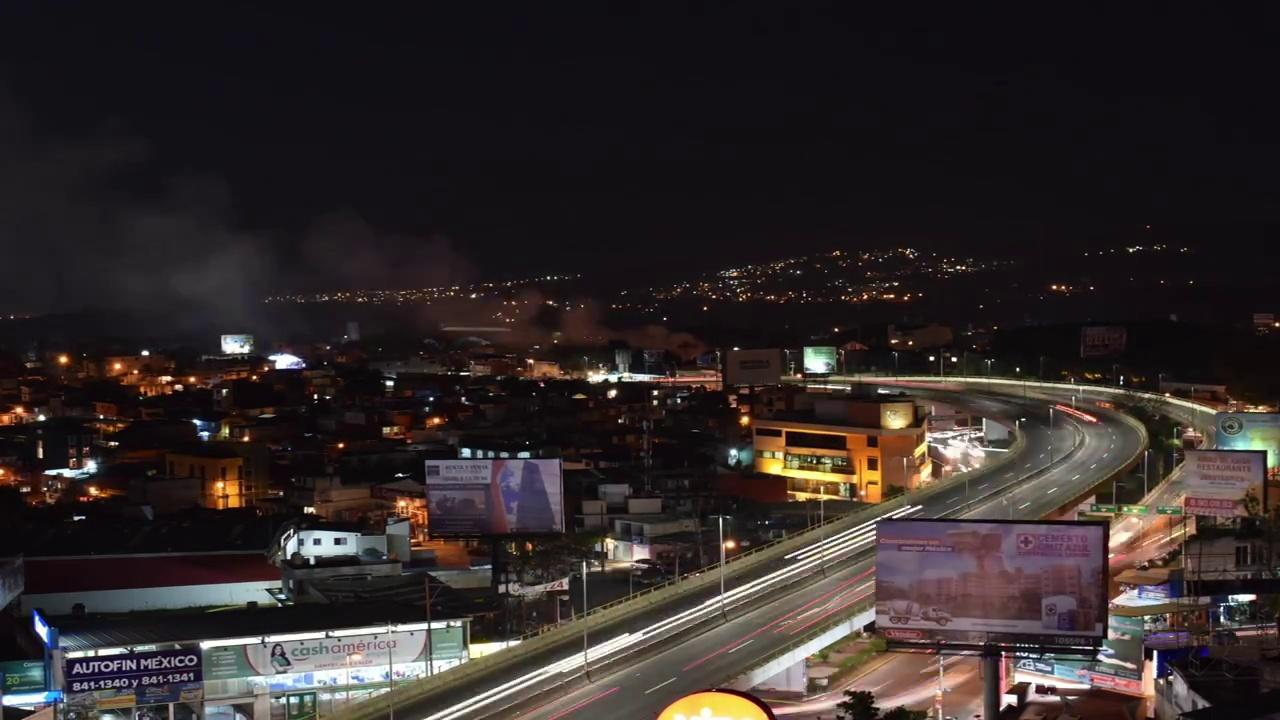smoke: (136, 244, 276, 320)
